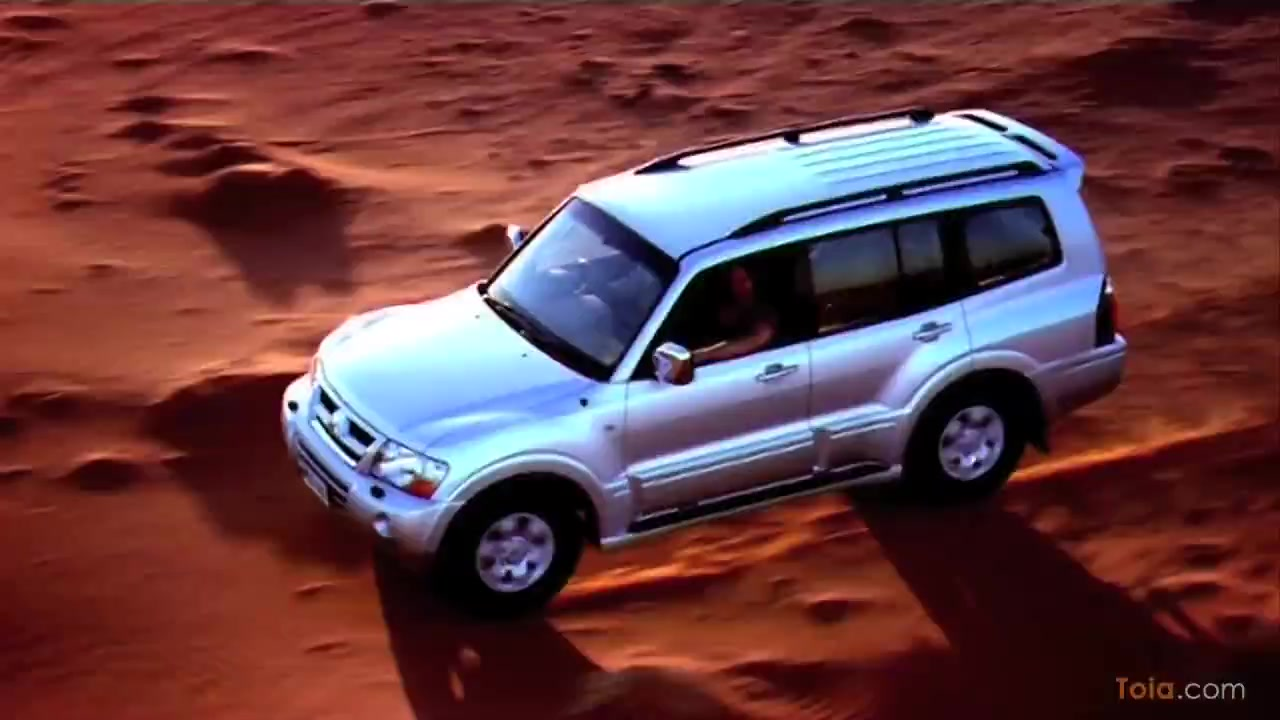car: (283, 104, 1130, 605)
